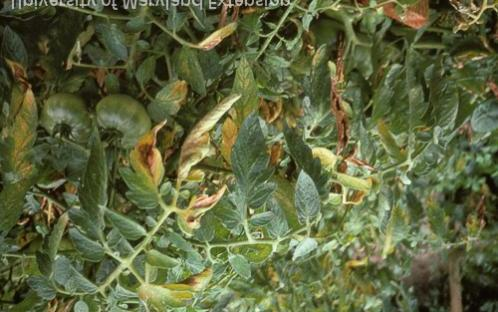Tomato Early blight leaf: (173, 95, 243, 187), (1, 62, 40, 182), (72, 132, 110, 235), (230, 115, 269, 210), (128, 122, 167, 212), (140, 266, 219, 309), (176, 186, 234, 233), (35, 211, 70, 283), (295, 169, 318, 225)
